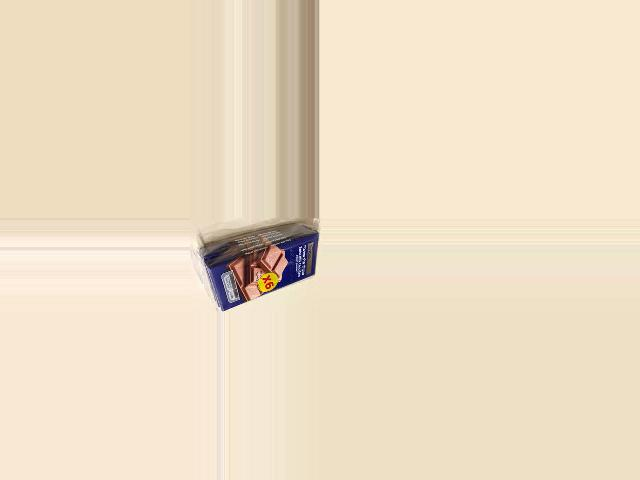chocolate: (207, 225, 319, 312)
